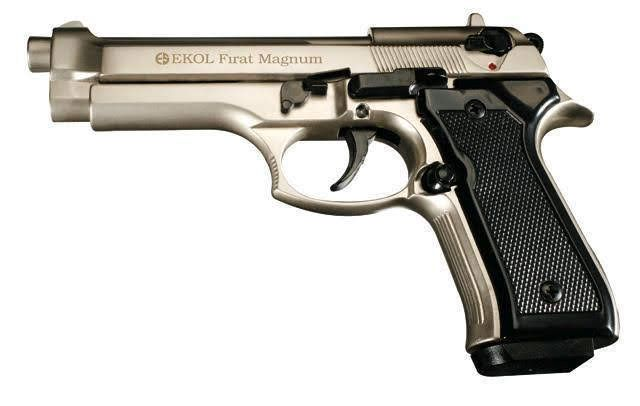gun: (14, 4, 611, 370)
